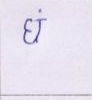anusvara: (38, 9, 42, 13)
